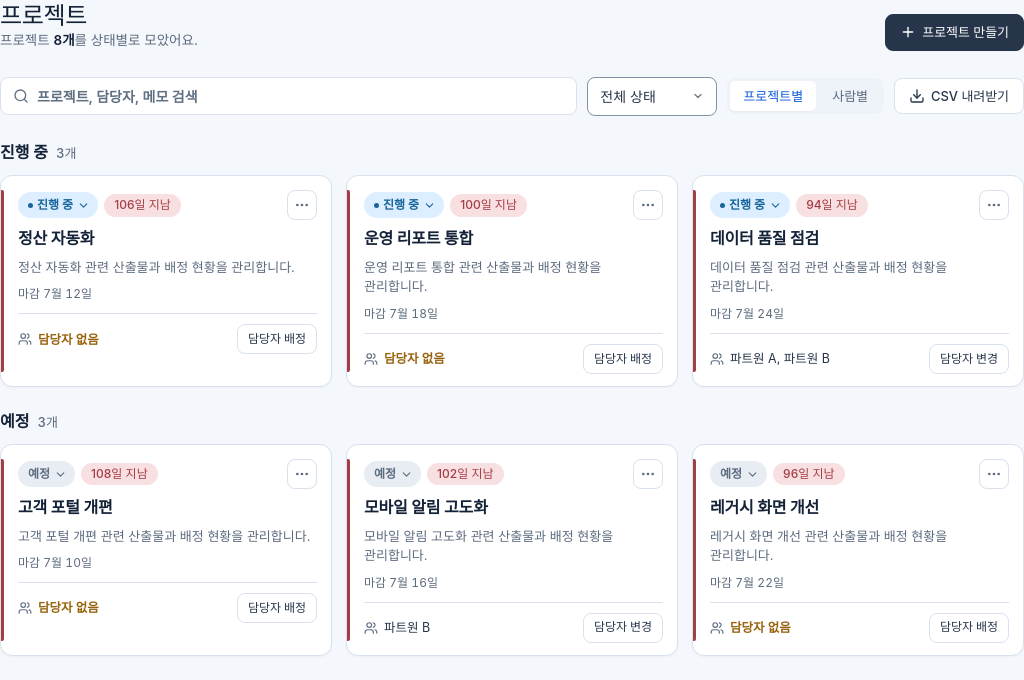
Scenario: ProjectsPanel › keeps a half-written project when the composer is closed and reopened
Step 1. Click the button "프로젝트 만들기" → [955, 32], box [885,14,1023,50]
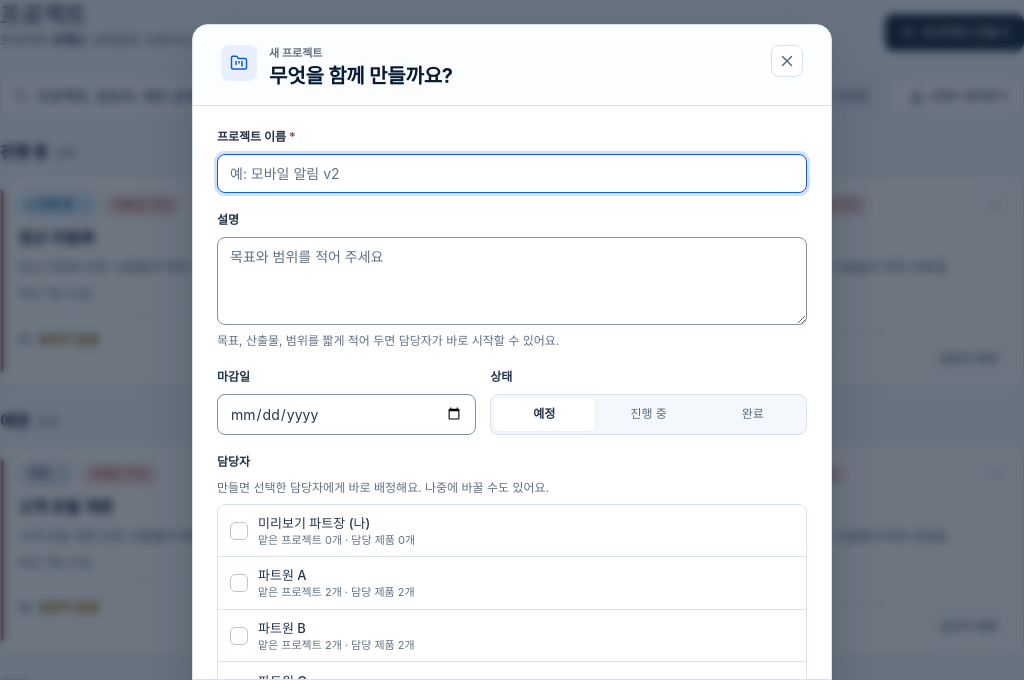
Step 2. Type "쓰던 프로젝트" into the field labelled "프로젝트 이름" → [512, 173], box [217,154,807,193]
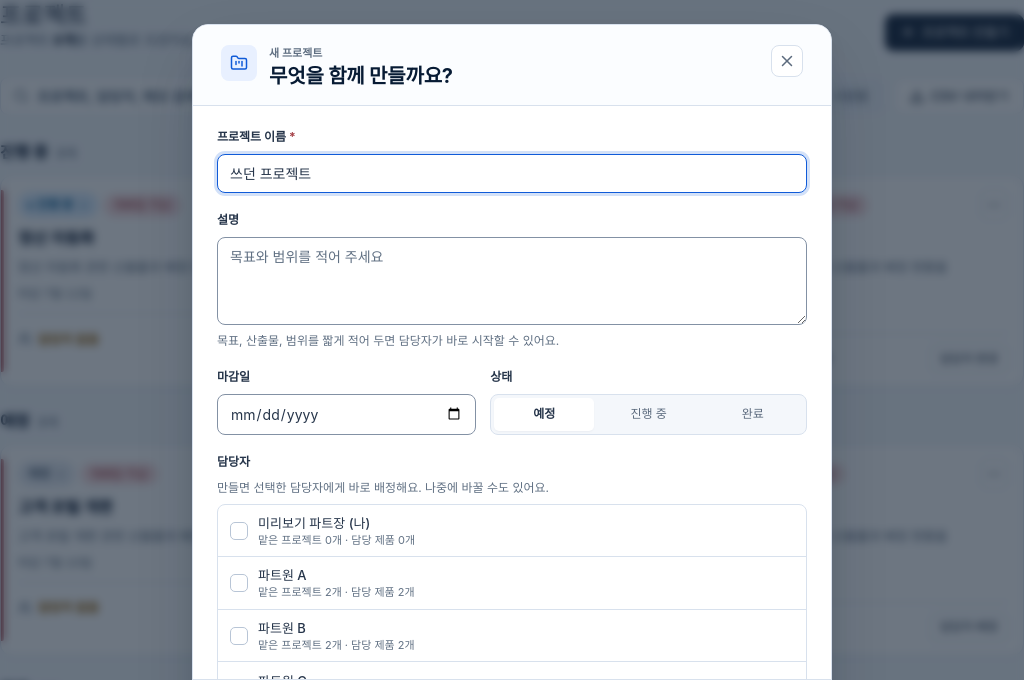
Step 3. Press Escape
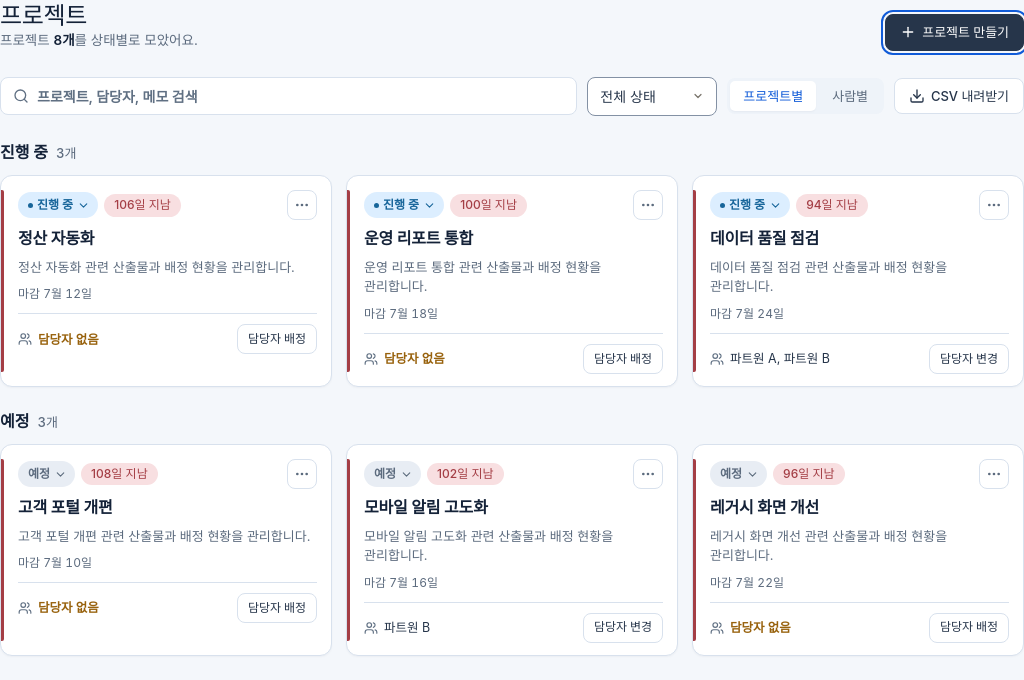
Check: the heading "무엇을 함께 만들까요?" is gone
Step 4. Click the button "프로젝트 만들기" → [955, 32], box [885,14,1023,50]
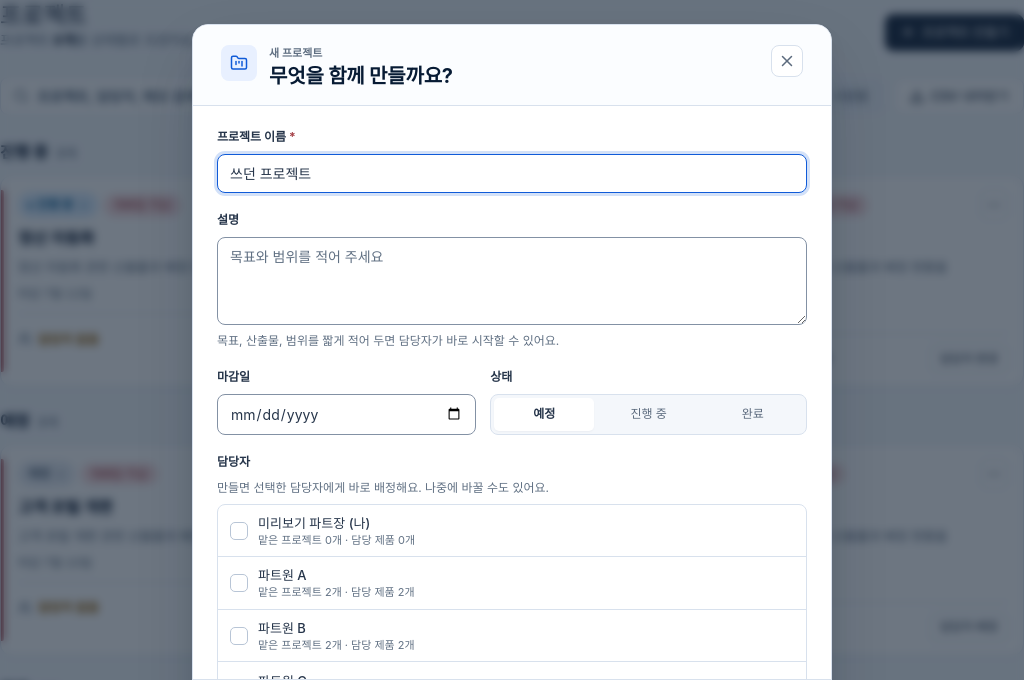
Check: the field labelled "프로젝트 이름" holds "쓰던 프로젝트", box [217,154,807,193]
